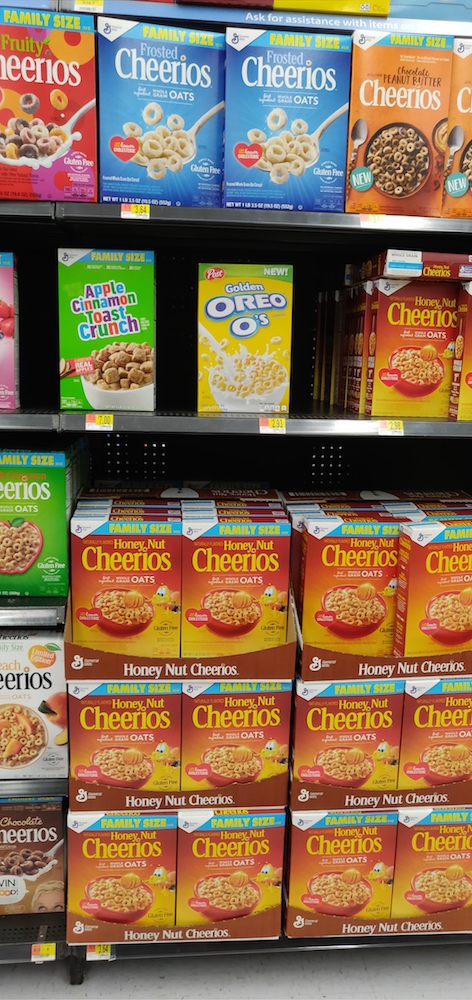Oreo Golden-568301011: (200, 263, 288, 413)
